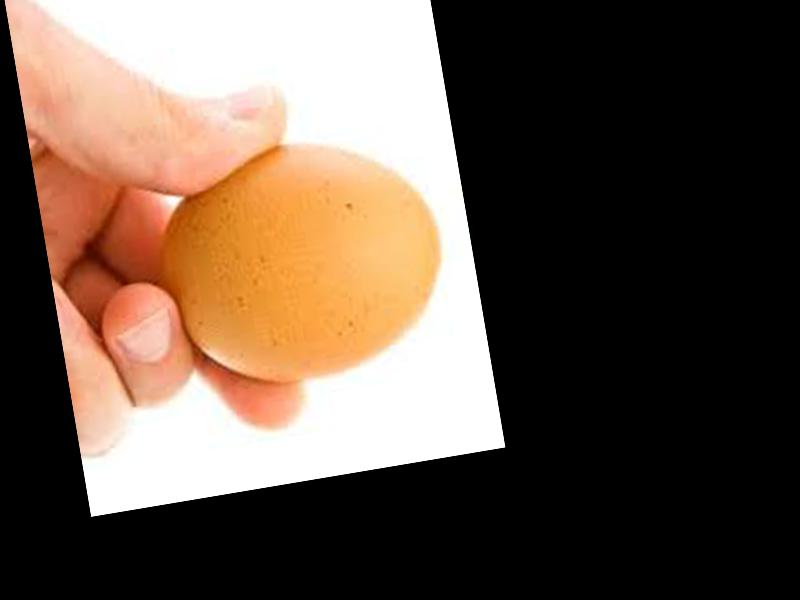Eggs: (151, 122, 460, 400)
